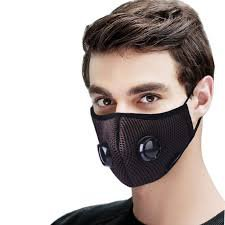mask: (72, 5, 225, 192)
